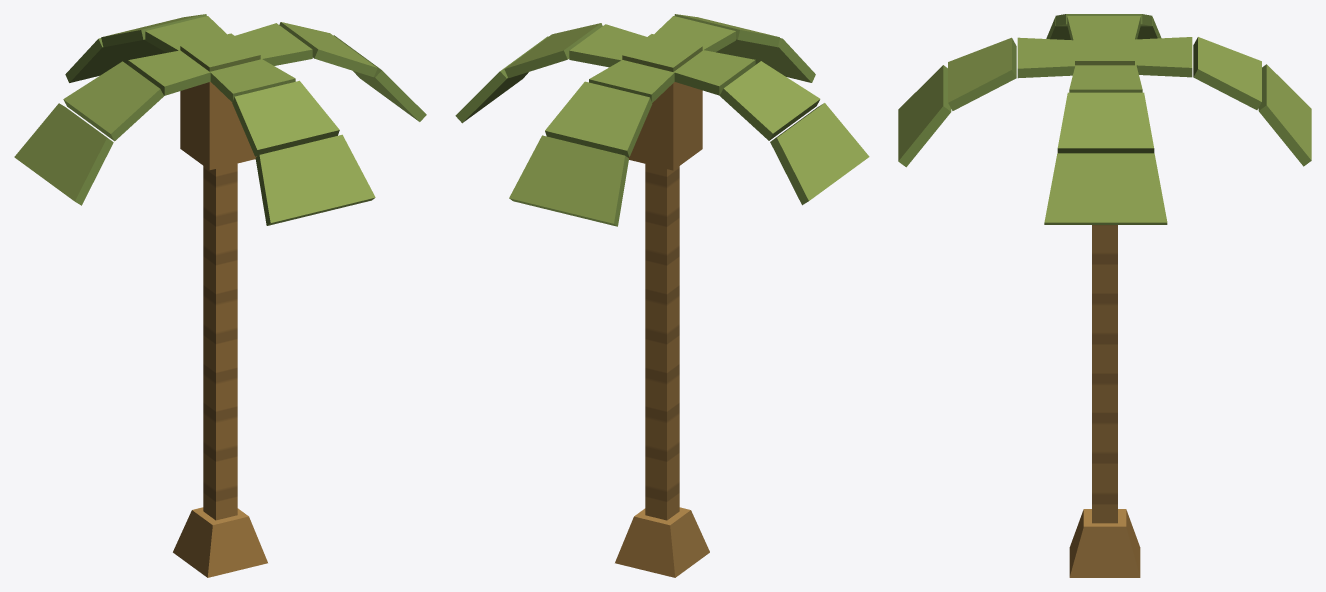
The model's file is SM_Env_Palm_03.fbx.
The picture shows the model from 3 angles, left to right: view 1: azimuth 30°, elevation 25°; view 2: azimuth 150°, elevation 25°; view 3: azimuth 270°, elevation 25°; orthographic projection.
Visible parts, largest first — view 1: SM_Env_Palm_03; view 2: SM_Env_Palm_03; view 3: SM_Env_Palm_03.
Part boxes in pixels (x1,y1,x2,y2): SM_Env_Palm_03: [14, 14, 426, 577]; SM_Env_Palm_03: [455, 14, 869, 577]; SM_Env_Palm_03: [898, 14, 1311, 577].
Bounding box in the file's own units: 7.7 × 10.57 × 7.7.
